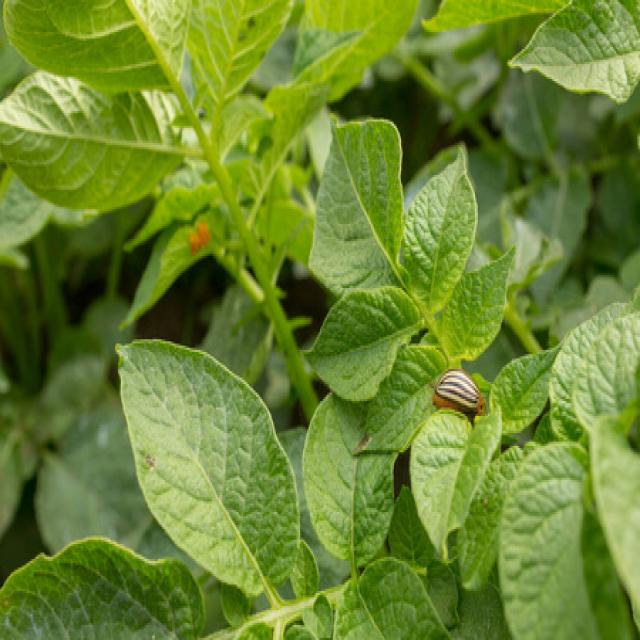ShuCaiHuaBanChong-Grown-: (423, 357, 496, 432)
